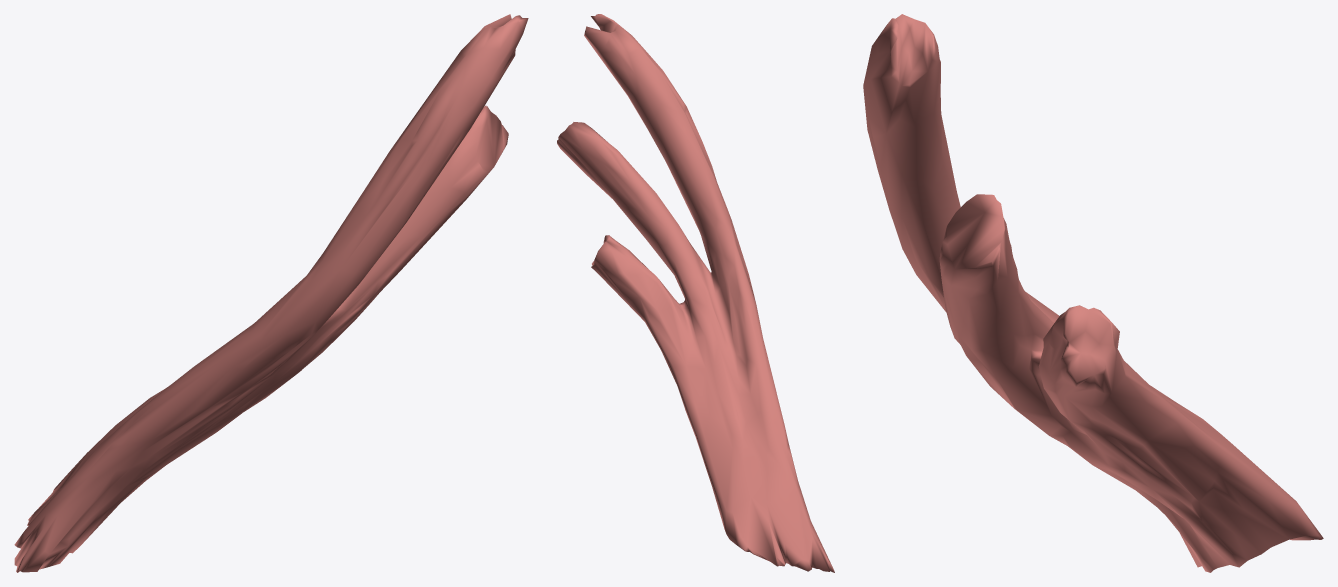
3 renders of one model, left to right at view 1: azimuth 30°, elevation 25°; view 2: azimuth 150°, elevation 25°; view 3: azimuth 270°, elevation 25°, orthographic. The views are drawn at different scales.
Visible parts, largest first — view 1: ZA_16fb140b89513cc1; view 2: ZA_16fb140b89513cc1; view 3: ZA_16fb140b89513cc1.
Boxes of the visible parts, x1,y1,x2,y2 form: ZA_16fb140b89513cc1: [14, 14, 528, 572]; ZA_16fb140b89513cc1: [557, 14, 834, 572]; ZA_16fb140b89513cc1: [863, 14, 1323, 572].
Bounding box in the file's own units: 0.0442 × 0.0536 × 0.0275.
